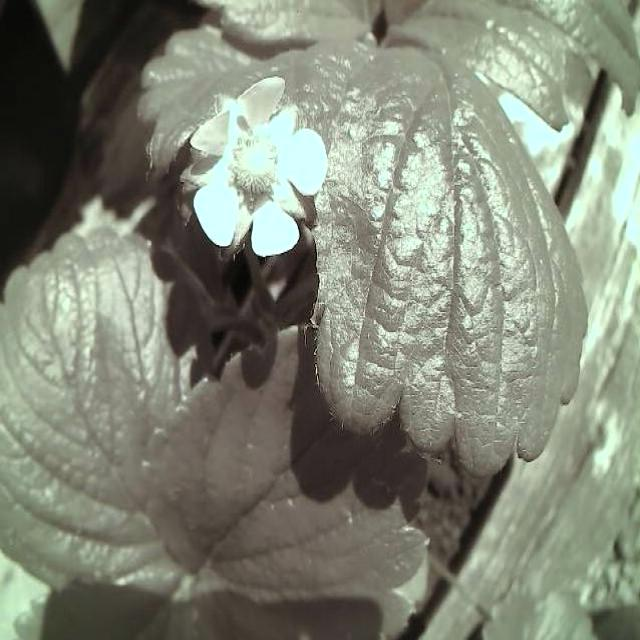flower: (184, 72, 337, 255)
